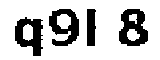8: (116, 5, 153, 49)
9: (46, 7, 81, 53)
l: (83, 6, 103, 51)
q: (12, 16, 45, 60)
